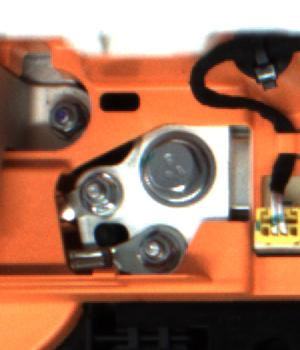nut_b: (137, 129, 223, 212)
